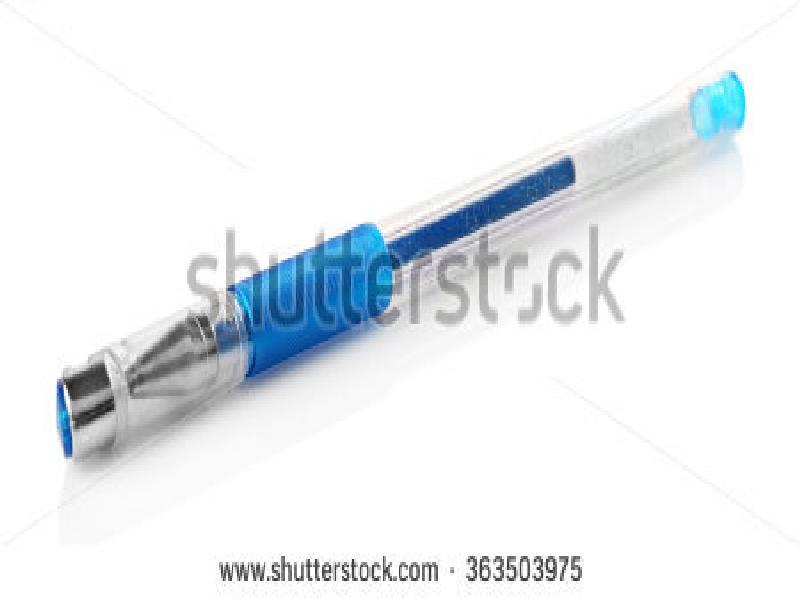pen: (51, 62, 749, 476)
